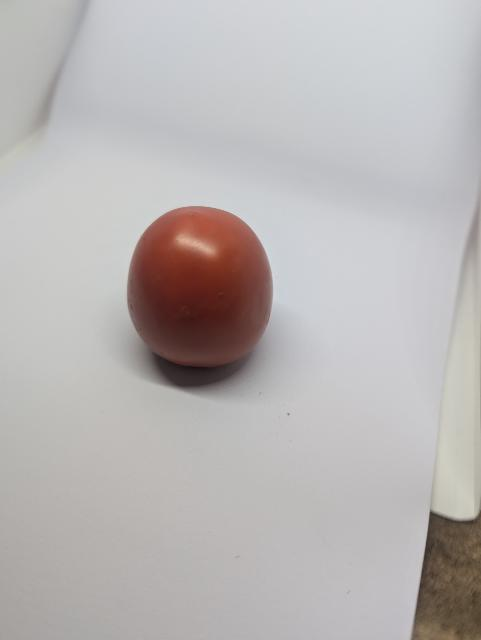red: (104, 202, 313, 407)
